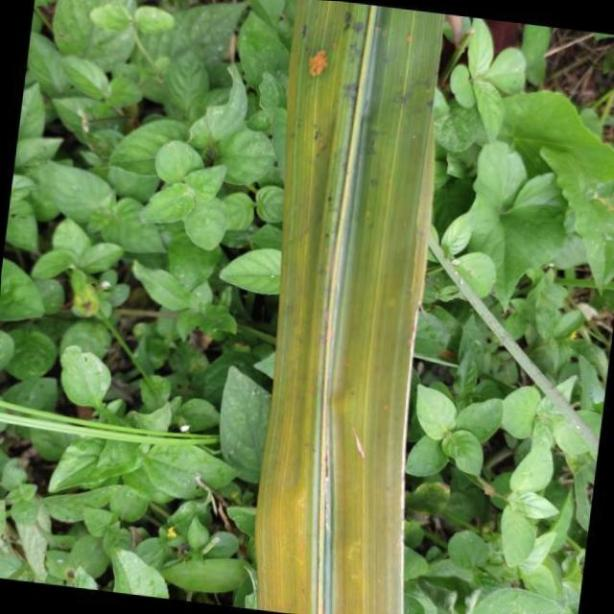Megnesium: (254, 0, 443, 614)
